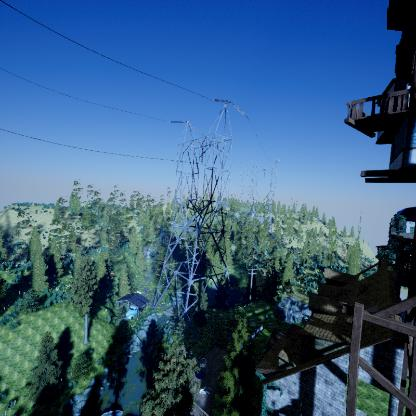tower: (152, 93, 249, 318)
